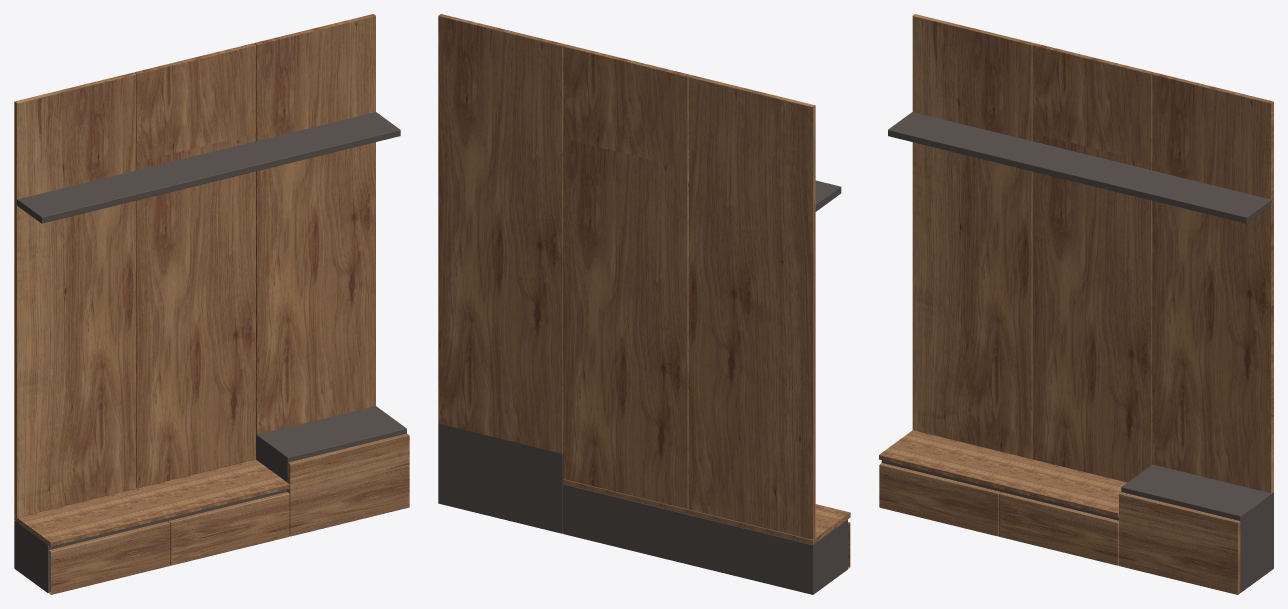
Rendered from wooden-cabinet.glb.
The picture shows the model from 3 angles, left to right: view 1: azimuth 30°, elevation 25°; view 2: azimuth 150°, elevation 25°; view 3: azimuth 330°, elevation 25°; orthographic projection. The views are drawn at different scales.
Visible parts, largest first — view 1: TV_Cabinet1; view 2: TV_Cabinet1; view 3: TV_Cabinet1.
Part boxes in pixels (x1=…): TV_Cabinet1: x1=14, y1=14, x2=409, y2=594; TV_Cabinet1: x1=438, y1=14, x2=850, y2=594; TV_Cabinet1: x1=879, y1=14, x2=1273, y2=594.
Bounding box in the file's own units: 2.35 × 2.92 × 0.4099.
Materials: 3 (1 with a texture image).
